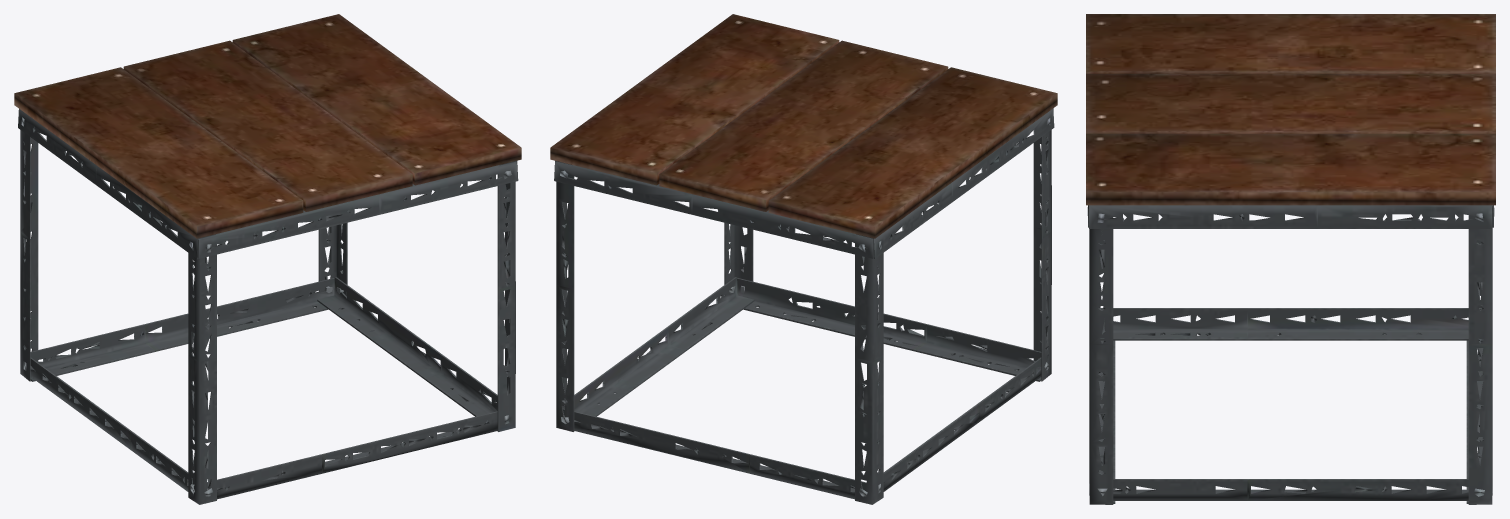
The model's file is industrial_coffee_table.glb.
3 renders of one model, left to right at view 1: azimuth 30°, elevation 25°; view 2: azimuth 150°, elevation 25°; view 3: azimuth 270°, elevation 25°, orthographic. The views are drawn at different scales.
Parts seen in each view (by area): view 1: industrial_coffee_table; view 2: industrial_coffee_table; view 3: industrial_coffee_table.
Boxes of the visible parts, x1,y1,x2,y2 form: industrial_coffee_table: (14,14,521,504); industrial_coffee_table: (550,14,1057,504); industrial_coffee_table: (1086,14,1495,504).
Bounding box in the file's own units: 0.7723 × 0.6375 × 0.752.
1 material, 1 textured.
